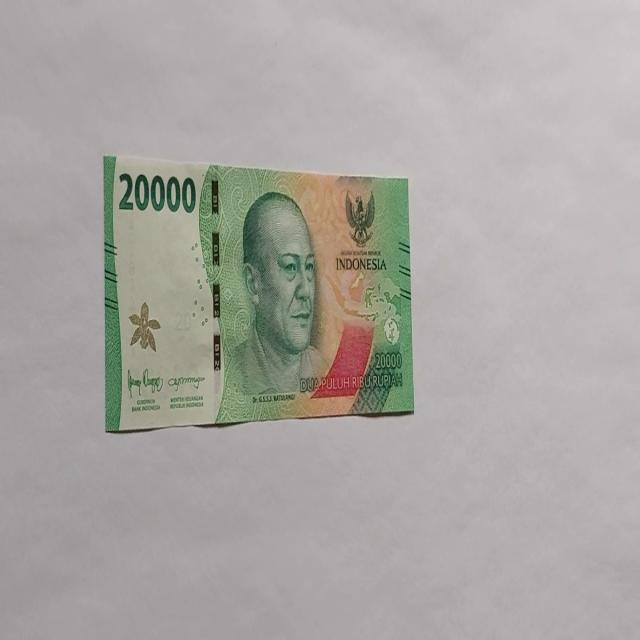dua puluh ribu rupiah: (102, 152, 414, 433)
